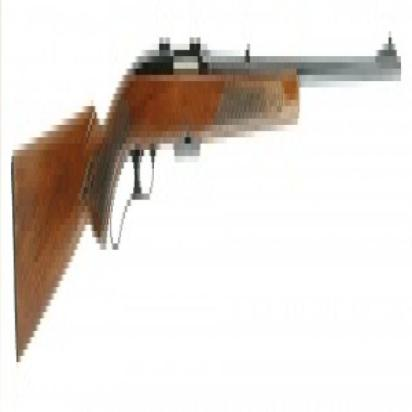Gun: (0, 15, 408, 411)
